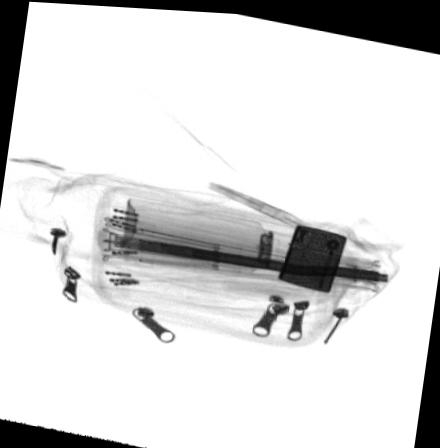Lighter: (277, 222, 348, 290)
Sprayer: (122, 197, 303, 265)
